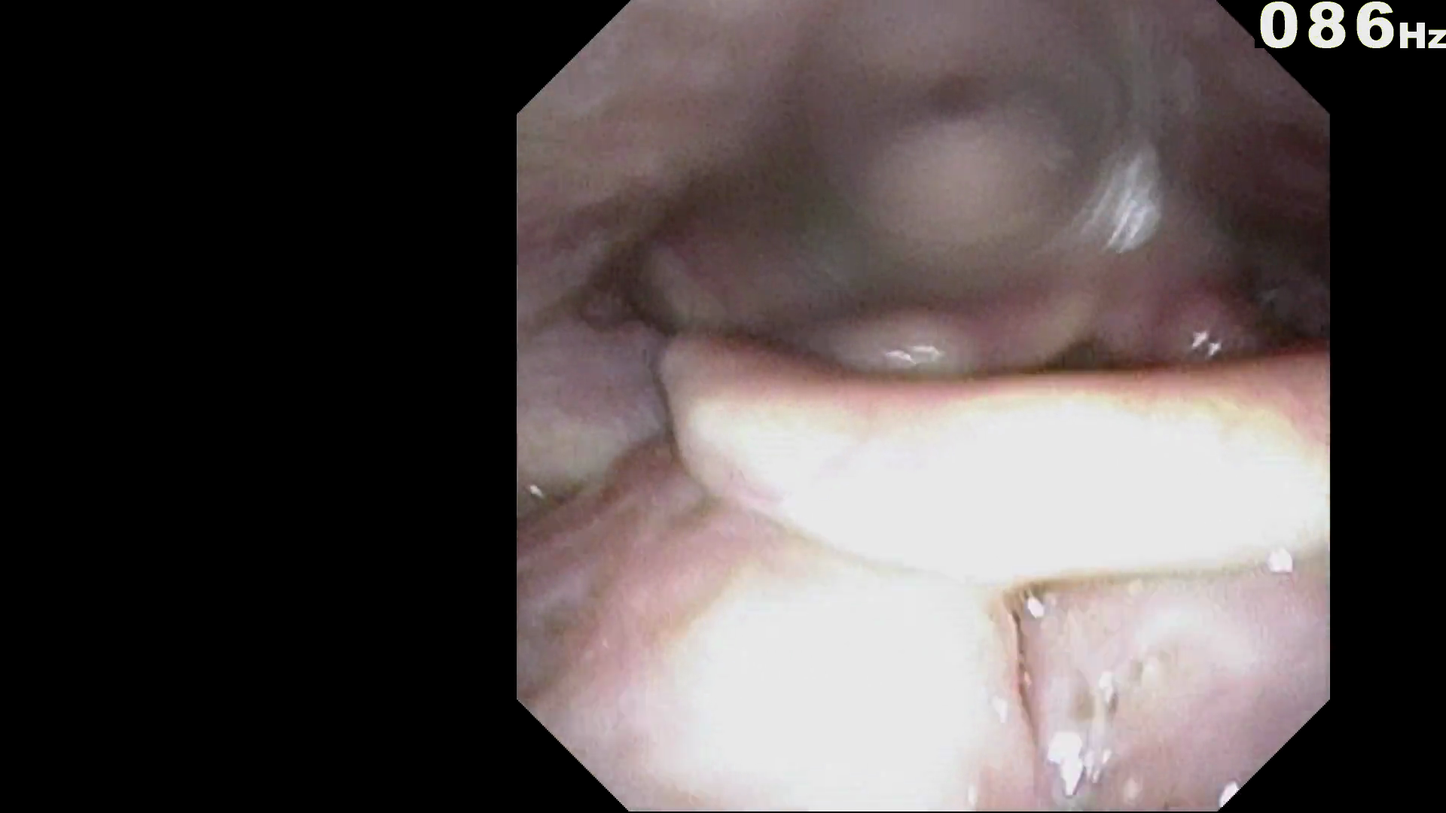epiglottis: (688, 341, 1313, 566)
trachea: (1048, 370, 1150, 455)
